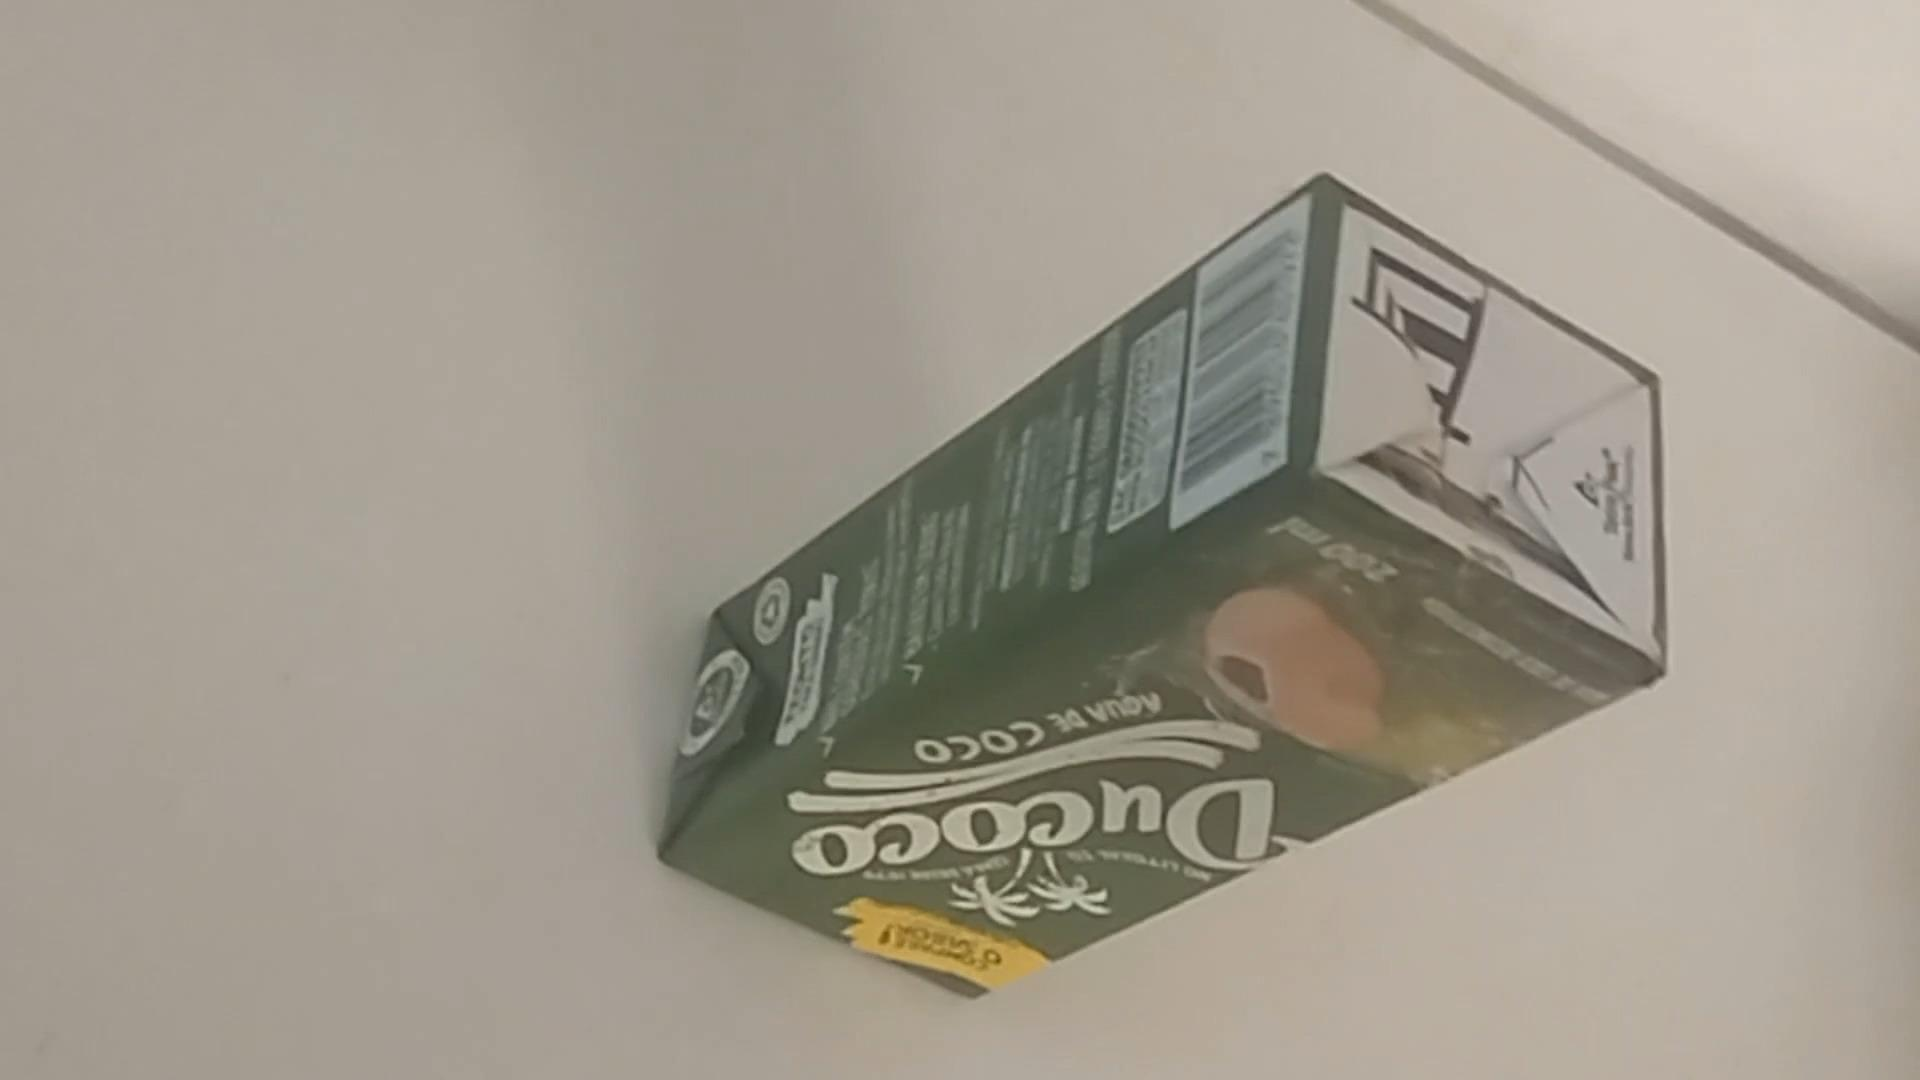coco: (657, 177, 1660, 997)
